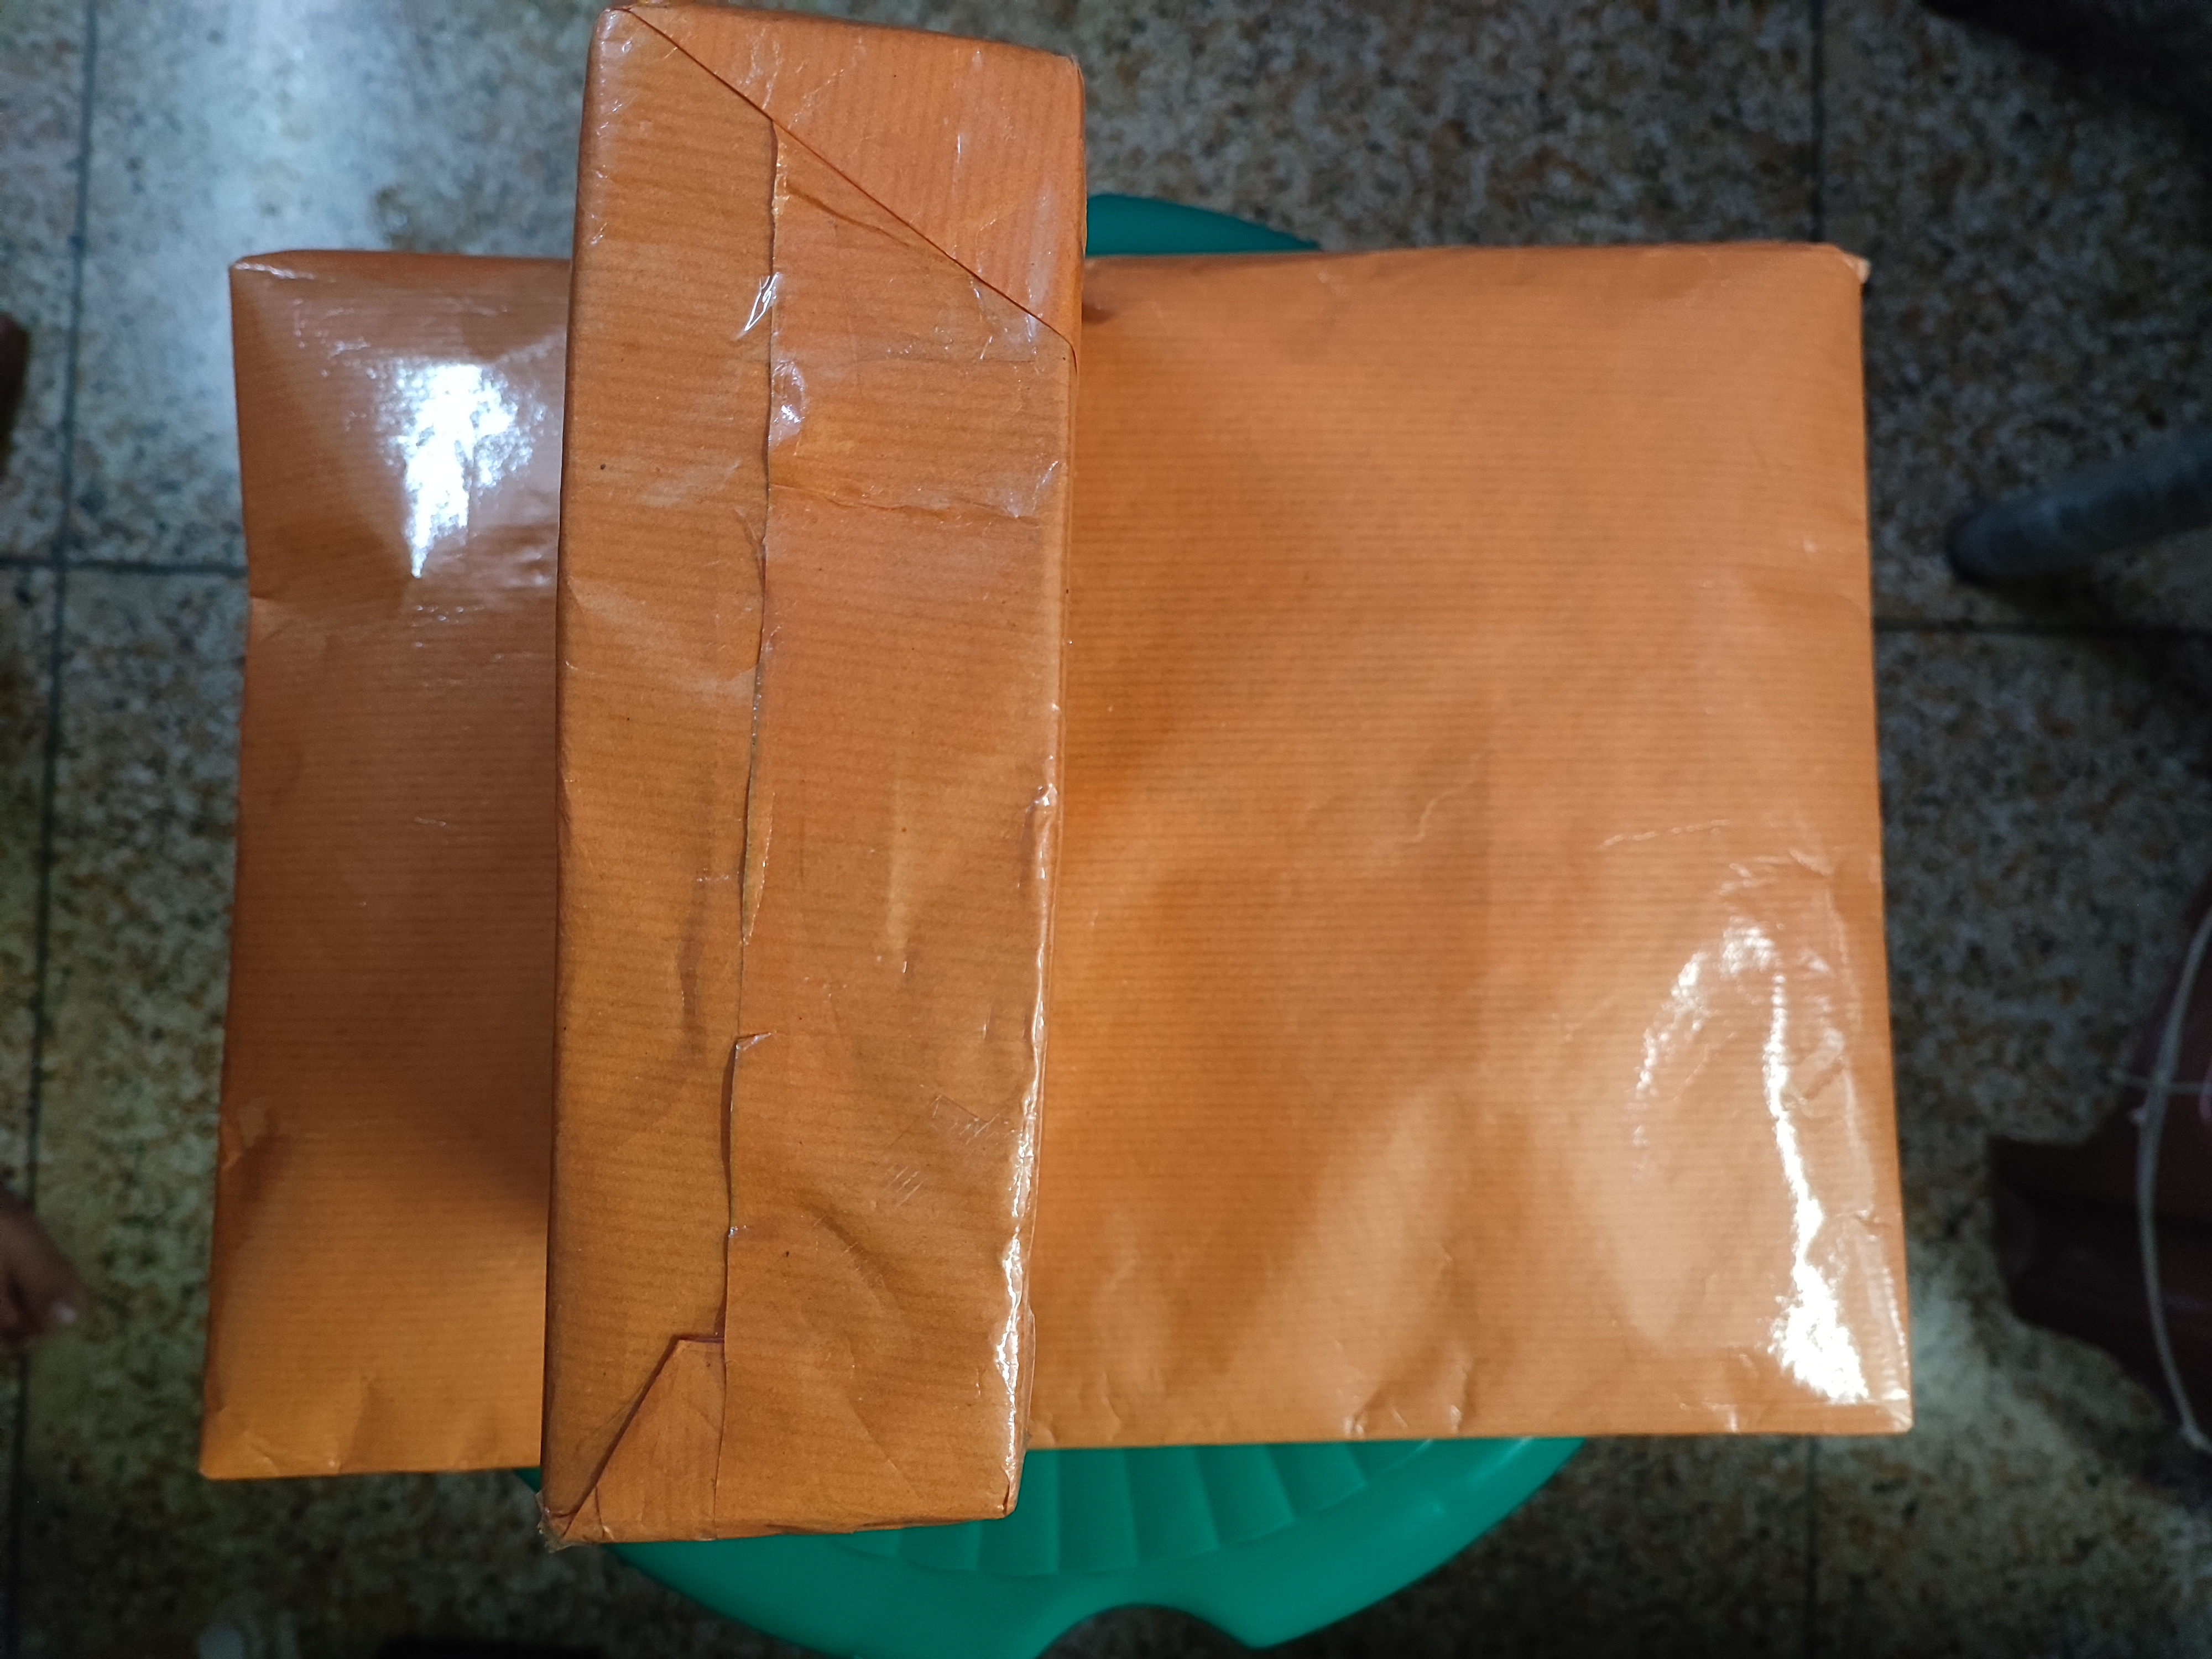Box: (185, 166, 1902, 1541), (498, 28, 1129, 1612)
